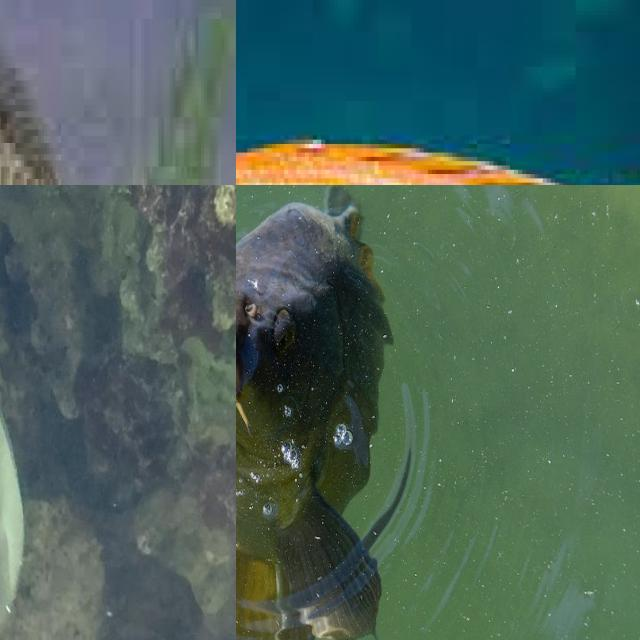fish: (236, 185, 495, 623), (0, 0, 236, 185), (236, 96, 640, 185)
